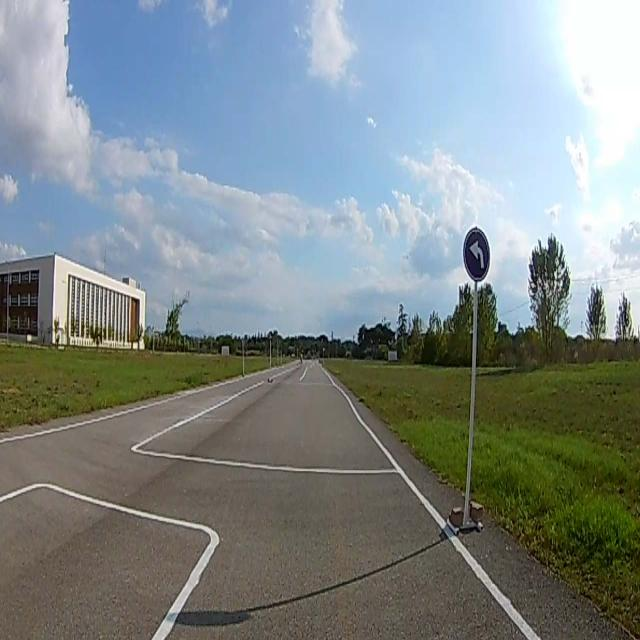sol: (464, 230, 490, 278)
